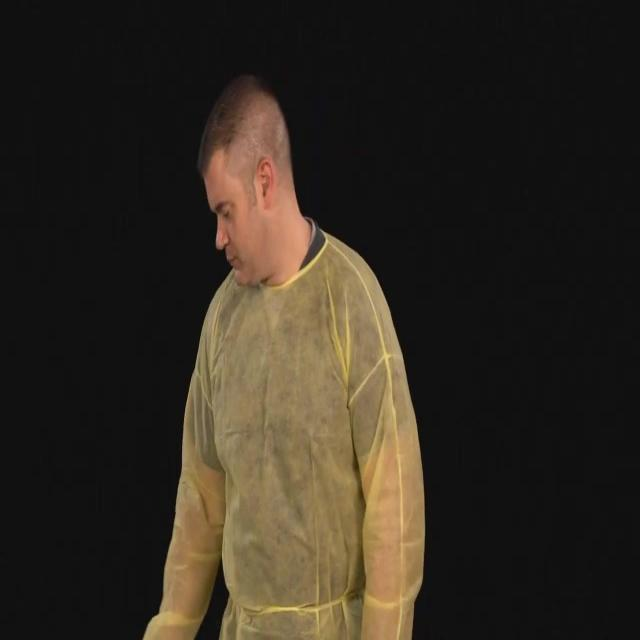Coverall: (186, 265, 418, 640)
